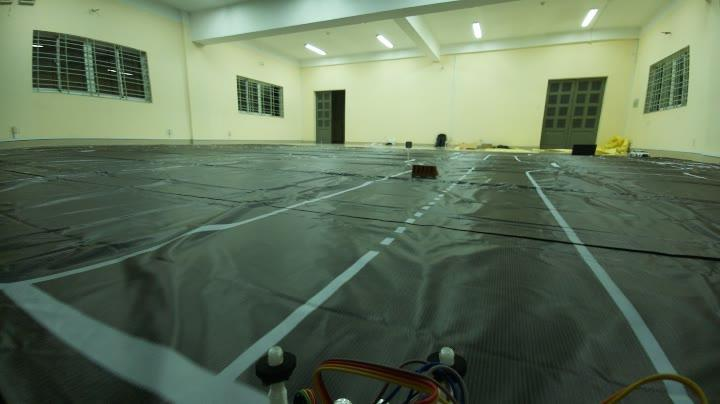roadblock: (410, 162, 441, 184)
